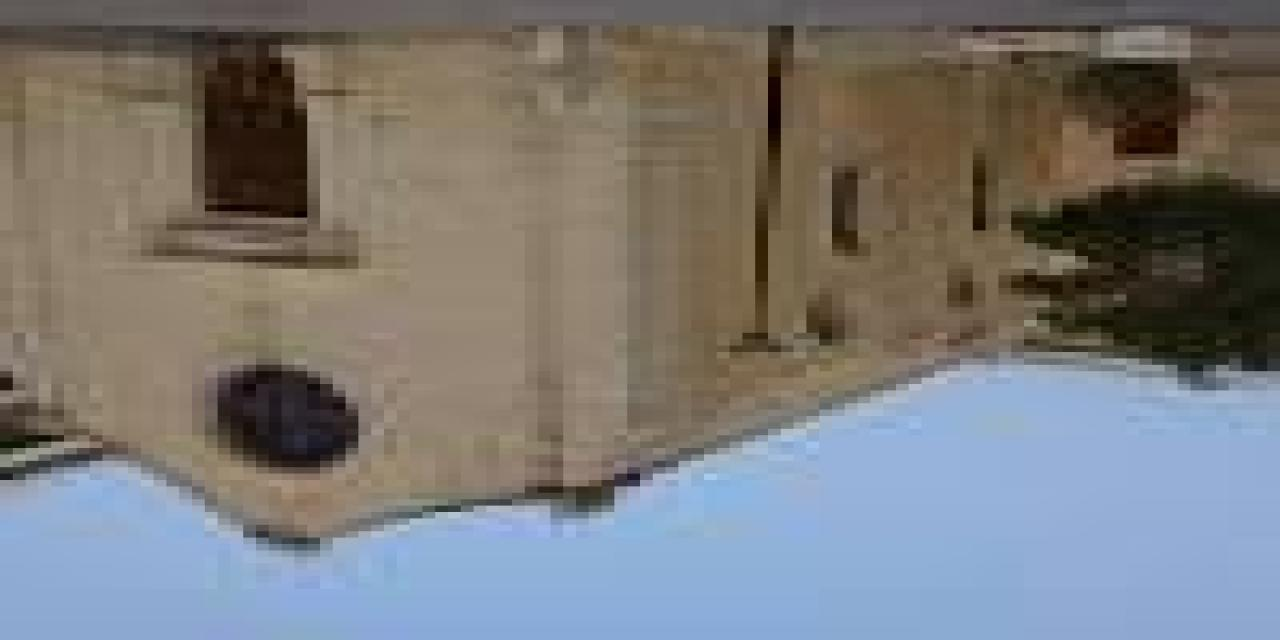Agia Aikaterini: (6, 19, 1187, 563)
